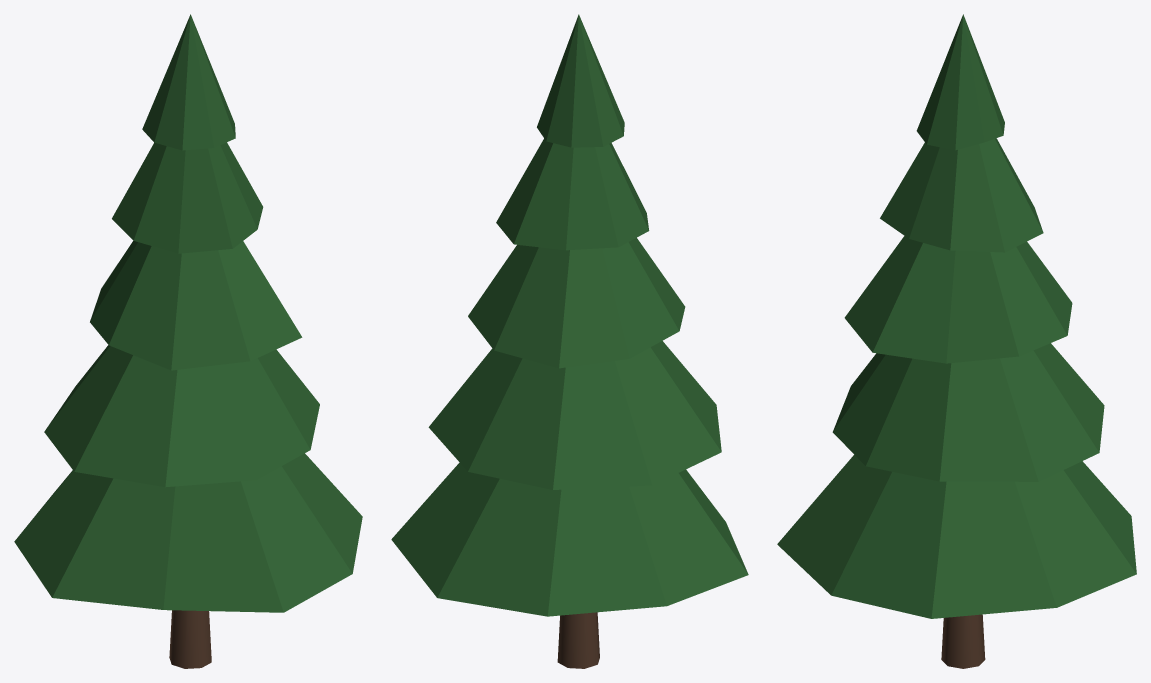
File: tree_pine_01.glb
3 renders of one model, left to right at view 1: azimuth 30°, elevation 25°; view 2: azimuth 150°, elevation 25°; view 3: azimuth 270°, elevation 25°, orthographic.
Visible parts, largest first — view 1: tree_pine_01_foliage, tree_pine_01_bark; view 2: tree_pine_01_foliage, tree_pine_01_bark; view 3: tree_pine_01_foliage, tree_pine_01_bark.
Part boxes in pixels (x1,y1,x2,y2): tree_pine_01_foliage: (14,14,362,612); tree_pine_01_bark: (169,610,211,668); tree_pine_01_foliage: (391,14,748,616); tree_pine_01_bark: (557,612,599,668); tree_pine_01_foliage: (777,14,1136,618); tree_pine_01_bark: (941,614,985,668).
Bounding box in the file's own units: 3.92 × 7.79 × 3.94.
